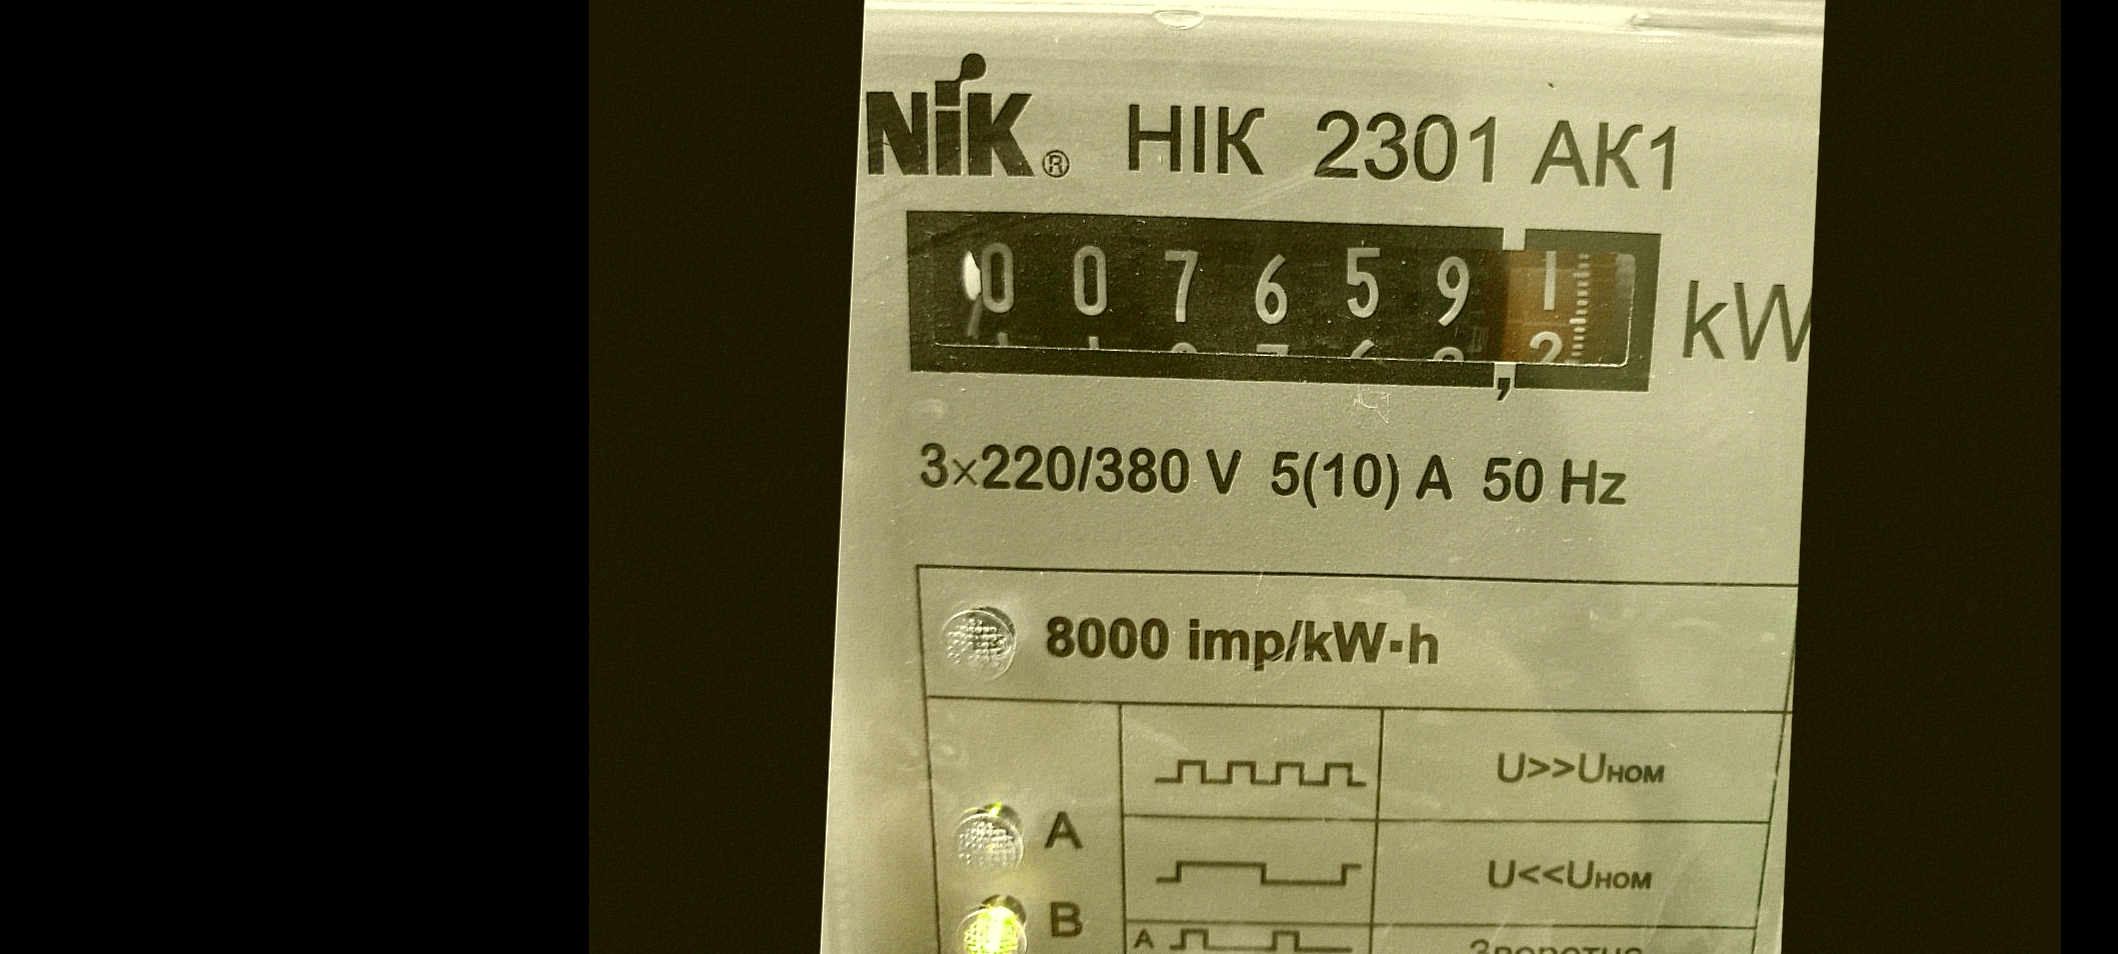0: (1060, 235, 1120, 323), (973, 231, 1027, 324)
1: (1534, 243, 1572, 319)
5: (1339, 239, 1389, 323)
6: (1245, 245, 1299, 328)
7: (1158, 242, 1204, 328)
9: (1430, 247, 1476, 336)
screen: (879, 176, 1683, 427)
